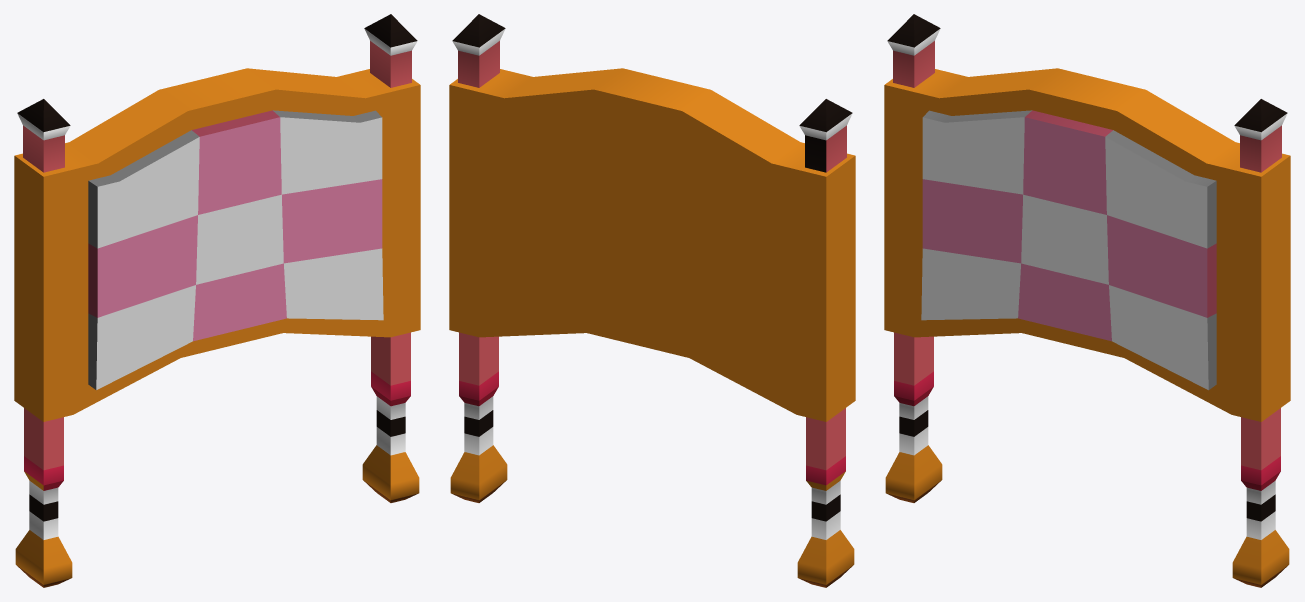
File: Pojipan.fbx
3 renders of one model, left to right at view 1: azimuth 30°, elevation 25°; view 2: azimuth 150°, elevation 25°; view 3: azimuth 330°, elevation 25°, orthographic.
Visible parts, largest first — view 1: Pojipan; view 2: Pojipan; view 3: Pojipan.
Boxes of the visible parts, left/top/right/bottom form: Pojipan: left=14, top=14, right=420, bottom=587; Pojipan: left=449, top=14, right=855, bottom=587; Pojipan: left=884, top=14, right=1290, bottom=587.
Size of the model in its own units: 0.5055 by 0.6182 by 0.0859.
